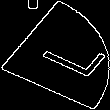L_NW: (15, 28, 95, 82)
